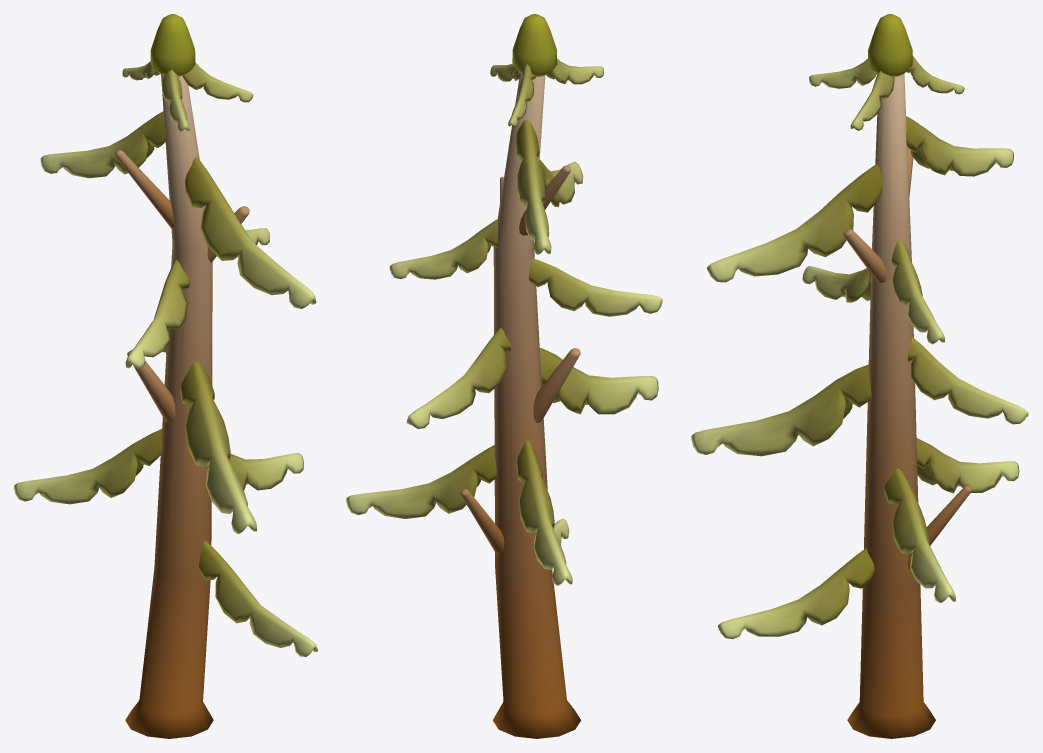
Rendered from Tree08.fbx.
The picture shows the model from 3 angles, left to right: view 1: azimuth 30°, elevation 25°; view 2: azimuth 150°, elevation 25°; view 3: azimuth 270°, elevation 25°; orthographic projection.
Parts seen in each view (by area): view 1: Tree09Al_LOD0, Tree09A_LOD0; view 2: Tree09Al_LOD0, Tree09A_LOD0; view 3: Tree09Al_LOD0, Tree09A_LOD0.
Boxes of the visible parts, bbox=[...] form: Tree09Al_LOD0: bbox=[14, 14, 317, 656]; Tree09A_LOD0: bbox=[115, 74, 249, 738]; Tree09Al_LOD0: bbox=[346, 14, 662, 585]; Tree09A_LOD0: bbox=[460, 73, 580, 738]; Tree09Al_LOD0: bbox=[691, 14, 1028, 639]; Tree09A_LOD0: bbox=[843, 74, 971, 738].
Size of what is drawn, in the model's own units: 2.97 by 3.39 by 7.82.
